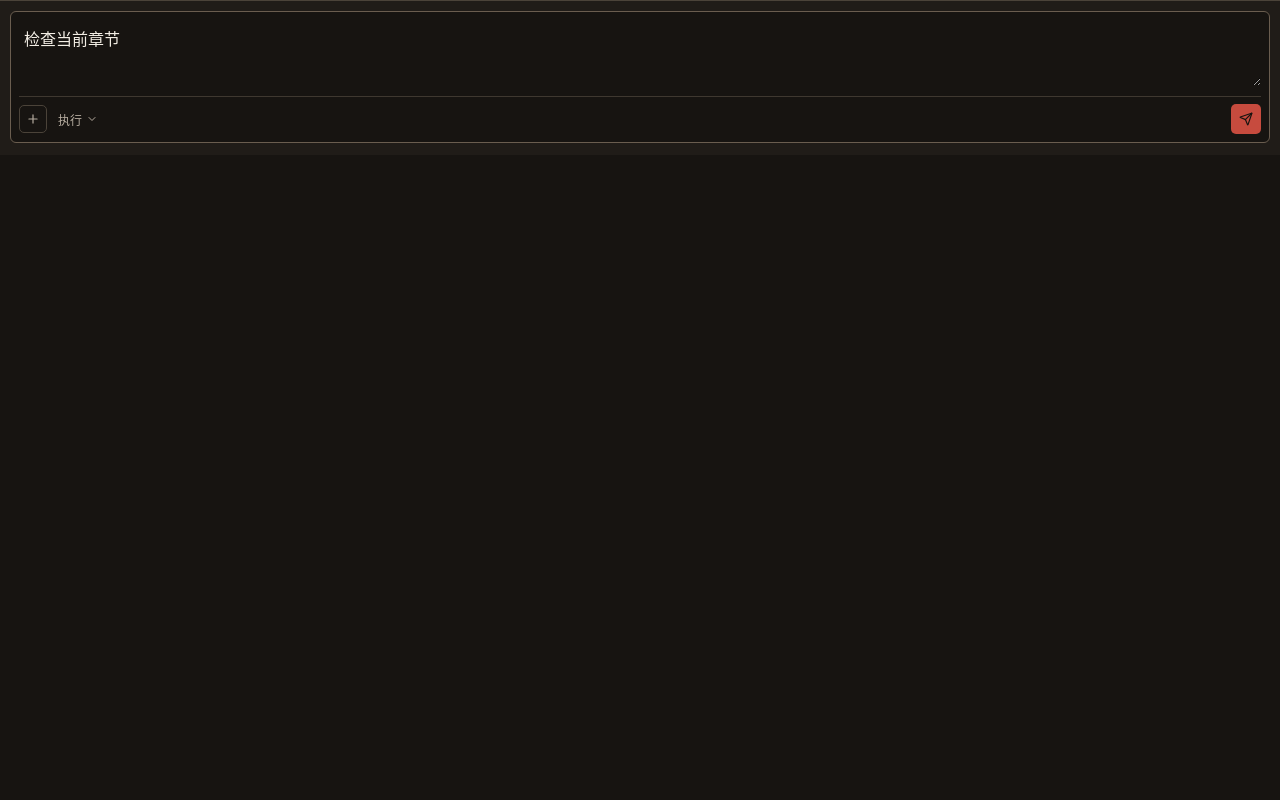
Test: AgentComposer › keeps run mode and permission available when model and reference controls are absent
Expected: the button with aria-label "执行" is shown, x1=51 y1=106 x2=105 y2=132
What coordinates should you click on to do the following:
click the button named "添加引用与执行审批"
I would click on:
 (33, 119)
Its box is x1=19 y1=105 x2=47 y2=133.
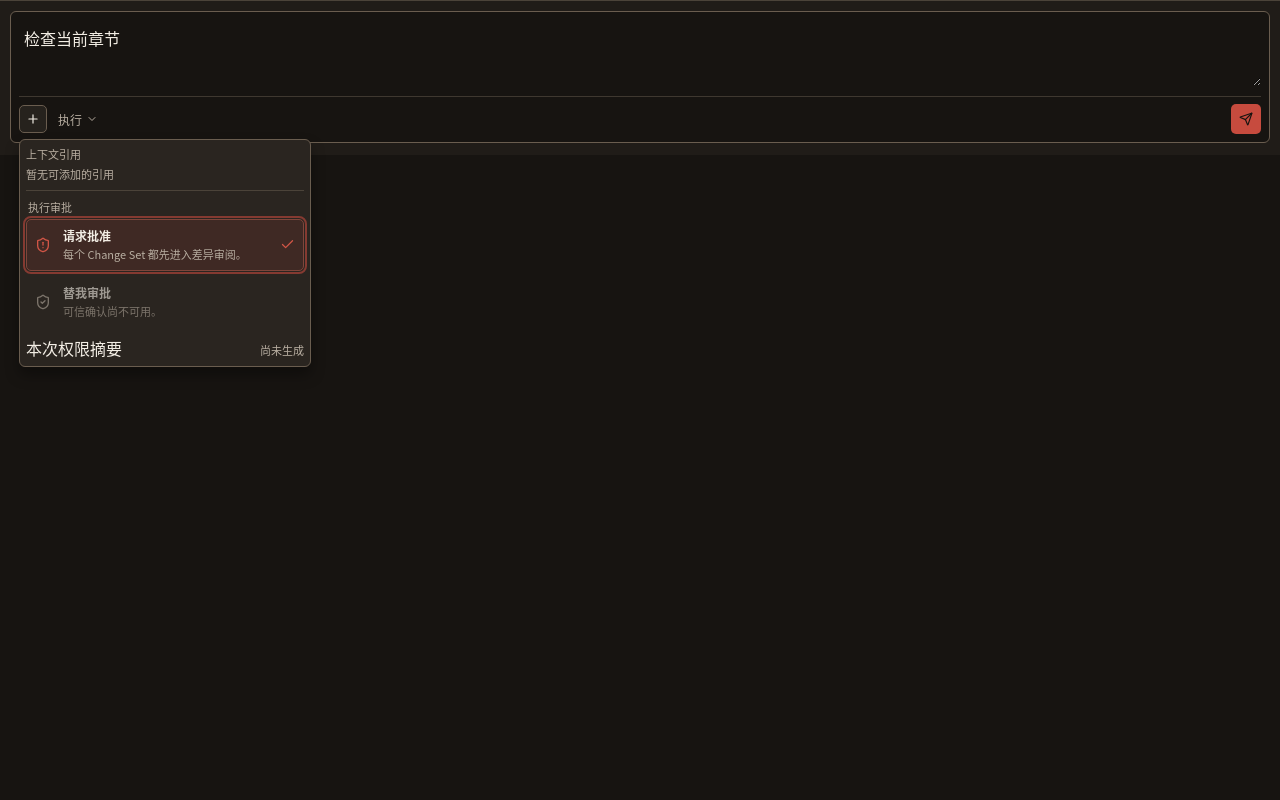
Expected: the element named "执行审批" is shown, x1=26 y1=199 x2=304 y2=360
